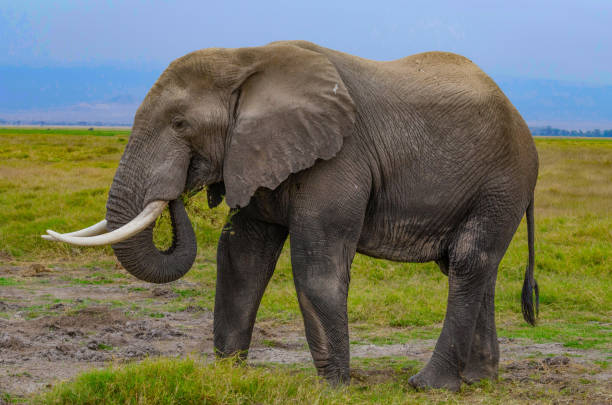africanelephant: (55, 39, 349, 289)
